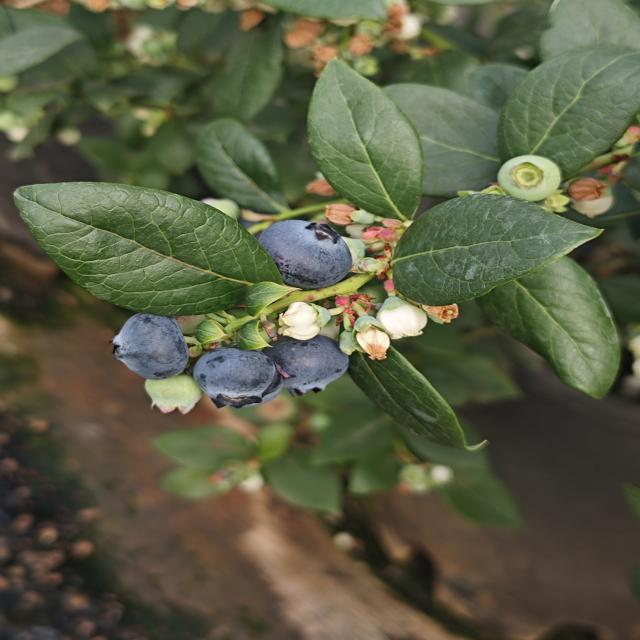ripe: (254, 218, 356, 292), (191, 345, 284, 411), (107, 311, 191, 382), (262, 333, 352, 399)
